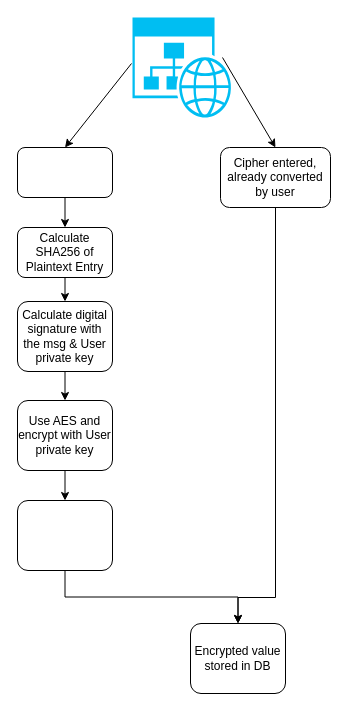
This 348x711 diagram has some shape labels left out. Here are the shapes that lost their labels. From the top down, the centre of each, then its label:
At [64,172]: "Plaintext Entered".
At [64,535]: "Use RSA and encrypt with Server public key".
